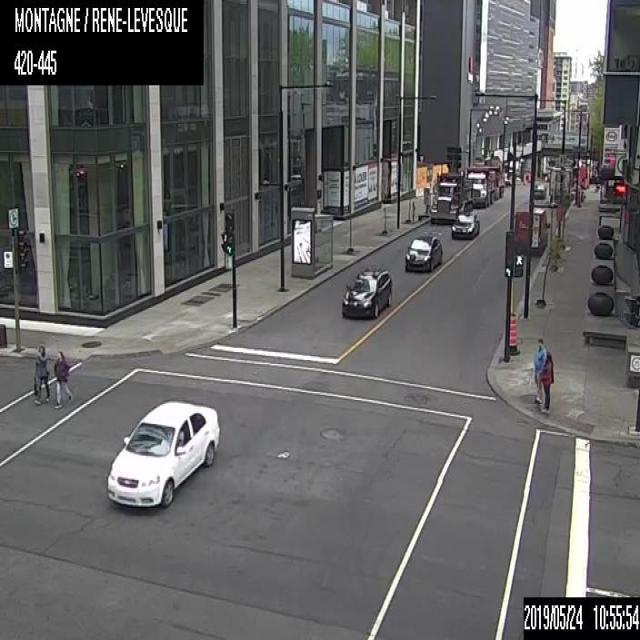construction: (505, 309, 520, 355)
pedestrian: (32, 344, 51, 404), (54, 351, 72, 408), (532, 338, 547, 402), (539, 351, 554, 413)
vehicle: (105, 397, 220, 508), (339, 263, 392, 317), (429, 172, 473, 222), (513, 207, 549, 256), (404, 232, 442, 272), (467, 165, 498, 207), (550, 167, 572, 206), (450, 211, 479, 239), (533, 182, 546, 198)
